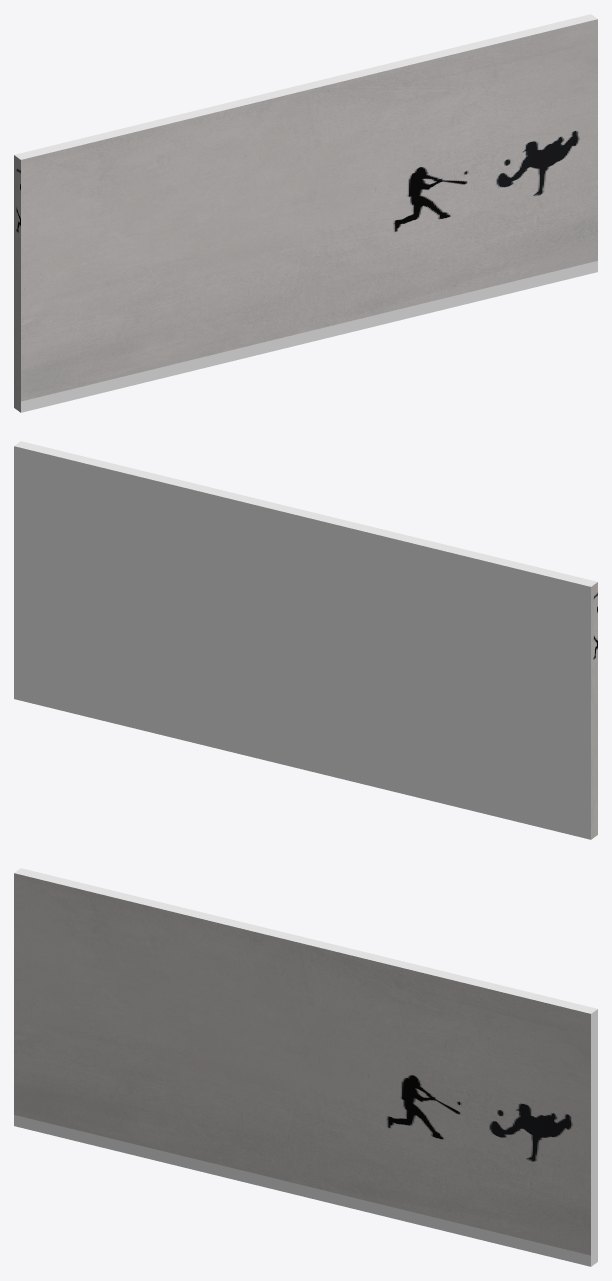
File: Wall 3.FBX
The picture shows the model from 3 angles, top to bottom: view 1: azimuth 30°, elevation 25°; view 2: azimuth 150°, elevation 25°; view 3: azimuth 330°, elevation 25°; orthographic projection.
Visible parts, largest first — view 1: wall 3; view 2: wall 3; view 3: wall 3.
Boxes of the visible parts, bbox=[...] form: wall 3: bbox=[14, 14, 597, 412]; wall 3: bbox=[14, 441, 597, 839]; wall 3: bbox=[14, 868, 597, 1266].
Bounding box in the file's own units: 644 × 270 × 13.33.
Materials: 1 (1 with a texture image).
